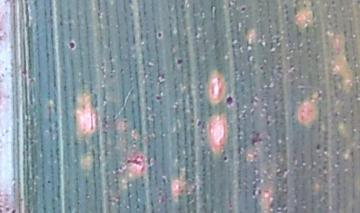tarspot: (66, 40, 78, 51), (173, 55, 184, 67), (223, 94, 234, 106), (152, 91, 164, 102), (220, 153, 232, 163), (257, 60, 266, 73), (239, 5, 249, 14), (313, 141, 321, 152), (155, 30, 164, 39), (264, 117, 272, 127), (10, 206, 18, 213)
